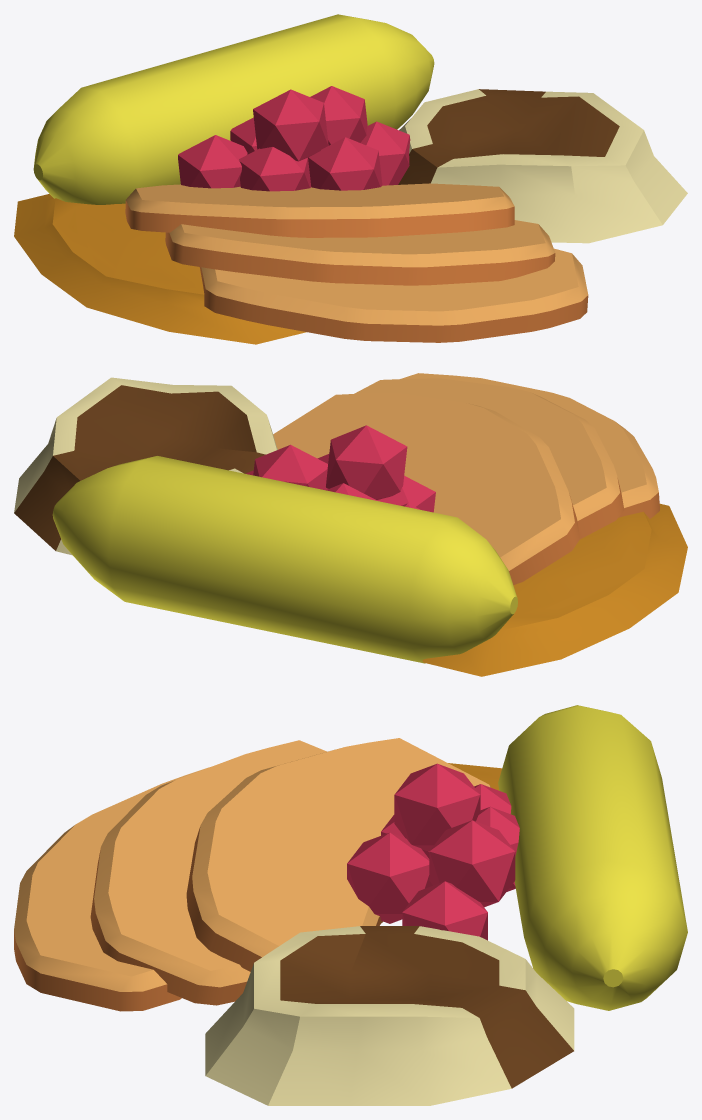
The model's file is fancyMeal.fbx.
3 views of the same model, one above another, from view 1: azimuth 30°, elevation 25°; view 2: azimuth 150°, elevation 25°; view 3: azimuth 270°, elevation 25° (orthographic). The views are drawn at different scales.
Visible parts, largest first — view 1: Fancy Meal; view 2: Fancy Meal; view 3: Fancy Meal.
Boxes of the visible parts, x1,y1,x2,y2 form: Fancy Meal: (14,14,687,344); Fancy Meal: (14,373,687,676); Fancy Meal: (14,705,687,1105).
Size of the model in its own units: 19.62 by 16.93 by 4.61.
